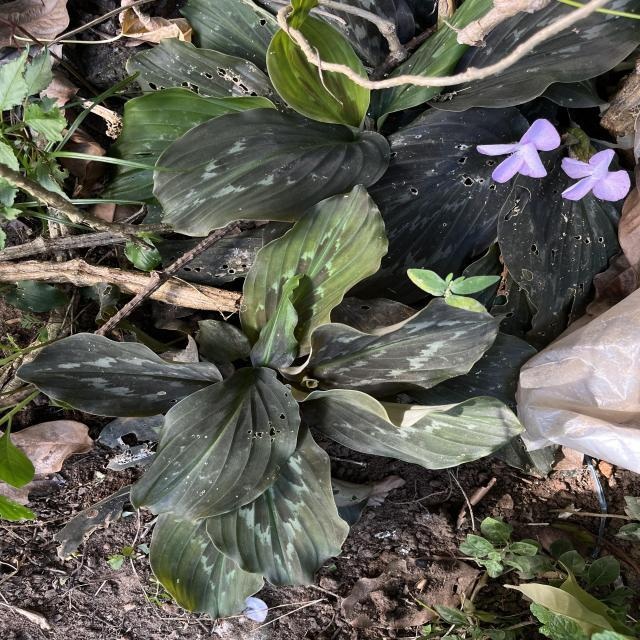Kaempferia galanga linn: (150, 105, 393, 238), (127, 364, 303, 527), (238, 180, 390, 364), (205, 416, 352, 590), (274, 294, 508, 400), (280, 381, 530, 471), (13, 330, 225, 420), (148, 514, 267, 621), (247, 270, 306, 371)
